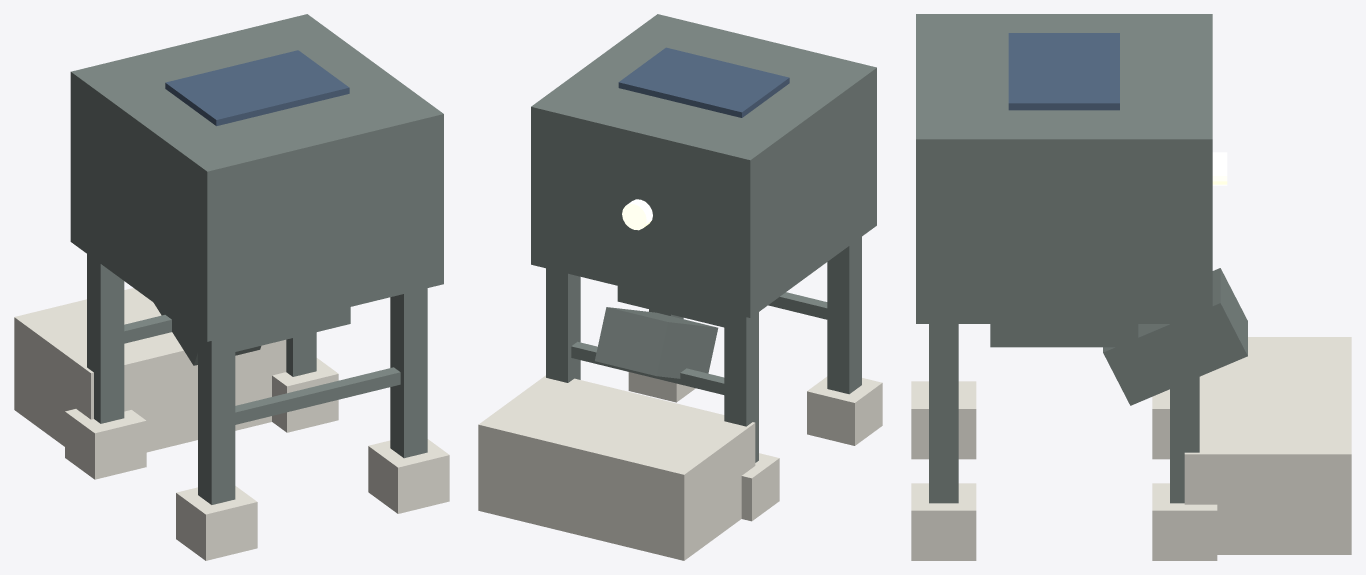
File: AutomatedFeeder.fbx
3 views of the same model, side by side, from view 1: azimuth 30°, elevation 25°; view 2: azimuth 150°, elevation 25°; view 3: azimuth 270°, elevation 25° (orthographic). The views are drawn at different scales.
Parts seen in each view (by area): view 1: Hopper_Bin, Feed_Basin, Feeder_Solar, Feeder_Leg_-0.65_-0.65, Feeder_Leg_0.65_-0.65, Feeder_Leg_-0.65_0.65, Feeder_Shoe_0.65_-0.65, Feeder_Shoe_-0.65_-0.65, Feeder_Shoe_-0.65_0.65, Feeder_Stretcher_X1, Feeder_Shoe_0.65_0.65, Hopper_Cone (+3 smaller); view 2: Hopper_Bin, Feed_Basin, Feeder_Solar, Chute_Funnel, Feeder_Leg_-0.65_-0.65, Feeder_Shoe_-0.65_-0.65, Feeder_Leg_-0.65_0.65, Feeder_Leg_0.65_0.65, Feeder_Shoe_-0.65_0.65, Hopper_Cone, Feeder_Stretcher_X2, Feeder_Shoe_0.65_-0.65 (+2 smaller); view 3: Hopper_Bin, Feed_Basin, Feeder_Solar, Chute_Funnel, Feeder_Leg_0.65_-0.65, Feeder_Leg_0.65_0.65, Feeder_Shoe_0.65_-0.65, Feeder_Shoe_0.65_0.65, Hopper_Cone, Feeder_Shoe_-0.65_-0.65, Feeder_Shoe_-0.65_0.65, Feeder_Beacon.
Boxes of the visible parts, box(x1,y1,x2,y2) form: Hopper_Bin: box(70, 14, 443, 341); Feed_Basin: box(14, 288, 286, 452); Feeder_Solar: box(165, 50, 349, 126); Feeder_Leg_-0.65_-0.65: box(198, 335, 235, 504); Feeder_Leg_0.65_-0.65: box(390, 288, 427, 458); Feeder_Leg_-0.65_0.65: box(87, 254, 124, 423); Feeder_Shoe_0.65_-0.65: box(368, 439, 449, 513); Feeder_Shoe_-0.65_-0.65: box(176, 486, 257, 560); Feeder_Shoe_-0.65_0.65: box(65, 409, 146, 479); Feeder_Stretcher_X1: box(235, 367, 400, 424); Feeder_Shoe_0.65_0.65: box(272, 358, 338, 432); Hopper_Cone: box(235, 307, 350, 351); Hopper_Bin: box(531, 14, 876, 317); Feed_Basin: box(478, 375, 755, 560); Feeder_Solar: box(618, 47, 789, 117); Chute_Funnel: box(595, 307, 718, 378); Feeder_Leg_-0.65_-0.65: box(827, 237, 861, 394); Feeder_Shoe_-0.65_-0.65: box(807, 376, 882, 445); Feeder_Leg_-0.65_0.65: box(724, 312, 758, 462); Feeder_Leg_0.65_0.65: box(546, 268, 580, 382); Feeder_Shoe_-0.65_0.65: box(741, 453, 779, 521); Hopper_Cone: box(617, 286, 724, 327); Feeder_Stretcher_X2: box(571, 341, 724, 394); Feeder_Shoe_0.65_-0.65: box(628, 372, 695, 402); Hopper_Bin: box(916, 14, 1212, 323); Feed_Basin: box(1184, 337, 1351, 554); Feeder_Solar: box(1008, 33, 1119, 110); Chute_Funnel: box(1103, 268, 1247, 405); Feeder_Leg_0.65_-0.65: box(929, 324, 958, 503); Feeder_Leg_0.65_0.65: box(1170, 324, 1199, 503); Feeder_Shoe_0.65_-0.65: box(911, 483, 976, 560); Feeder_Shoe_0.65_0.65: box(1152, 483, 1217, 560); Hopper_Cone: box(990, 324, 1138, 347); Feeder_Shoe_-0.65_-0.65: box(911, 381, 976, 459); Feeder_Shoe_-0.65_0.65: box(1152, 389, 1169, 459); Feeder_Beacon: box(1212, 152, 1227, 185).
Bounding box in the file's own units: 165 × 255 × 238.
